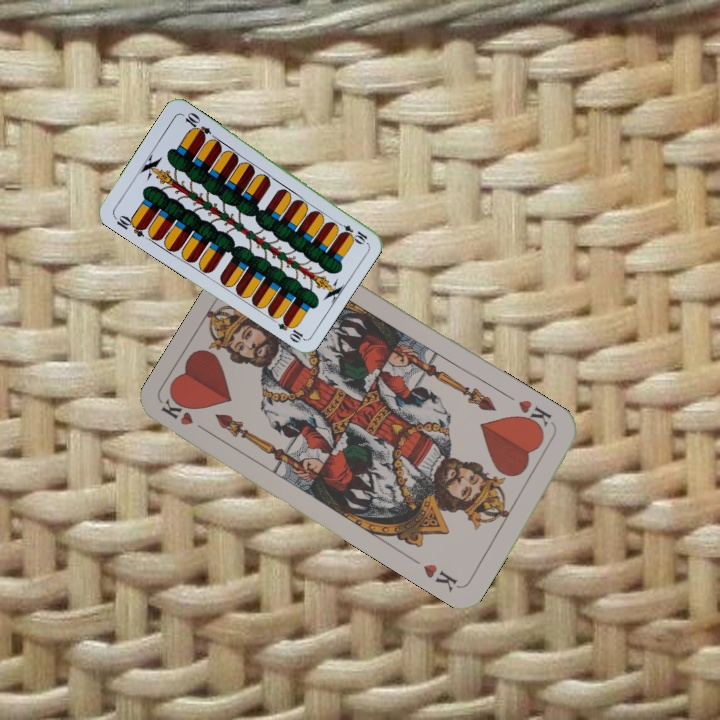E10: (110, 211, 149, 239), (332, 218, 370, 246)
HK: (157, 392, 213, 437), (513, 395, 559, 435)
